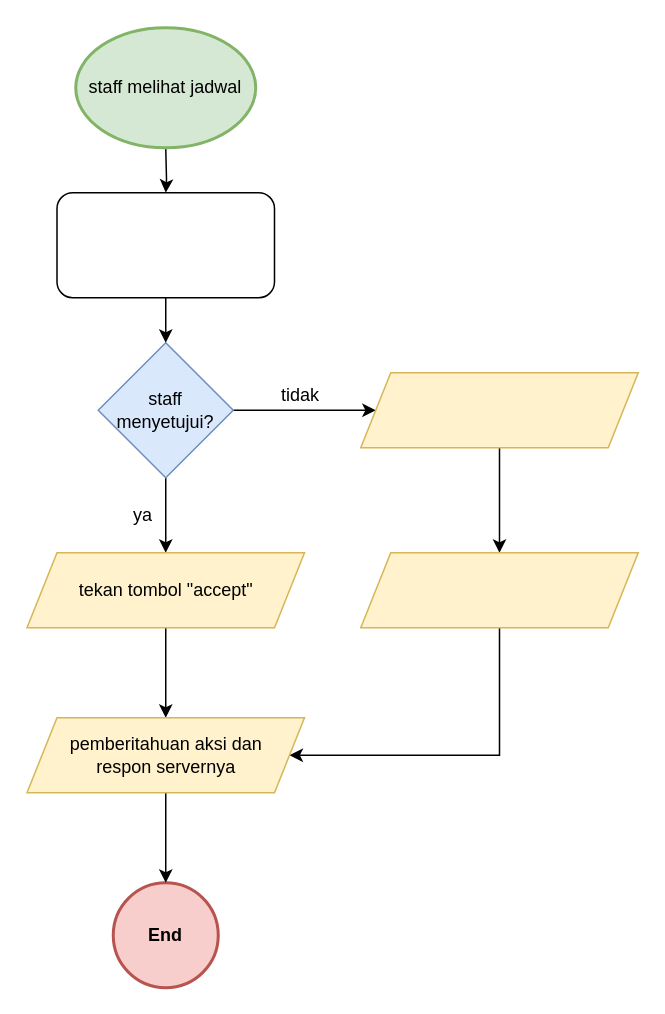
This 665x1014 diagram has some shape labels left out. The centre of each missing label's shape, as x and y in pixels:
modal untuk input alasan: the point at 498,589
Staff membuka jadwal yang diajukan oleh client: the point at 165,244
tekan tombol "decline": the point at 498,409
